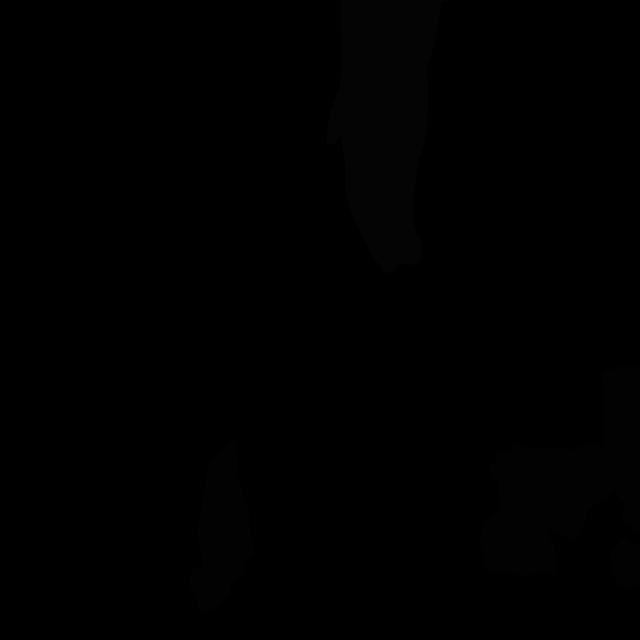cardboard: (480, 444, 640, 588), (188, 440, 255, 613), (603, 365, 640, 451)
soft_plastic: (326, 0, 450, 273)
